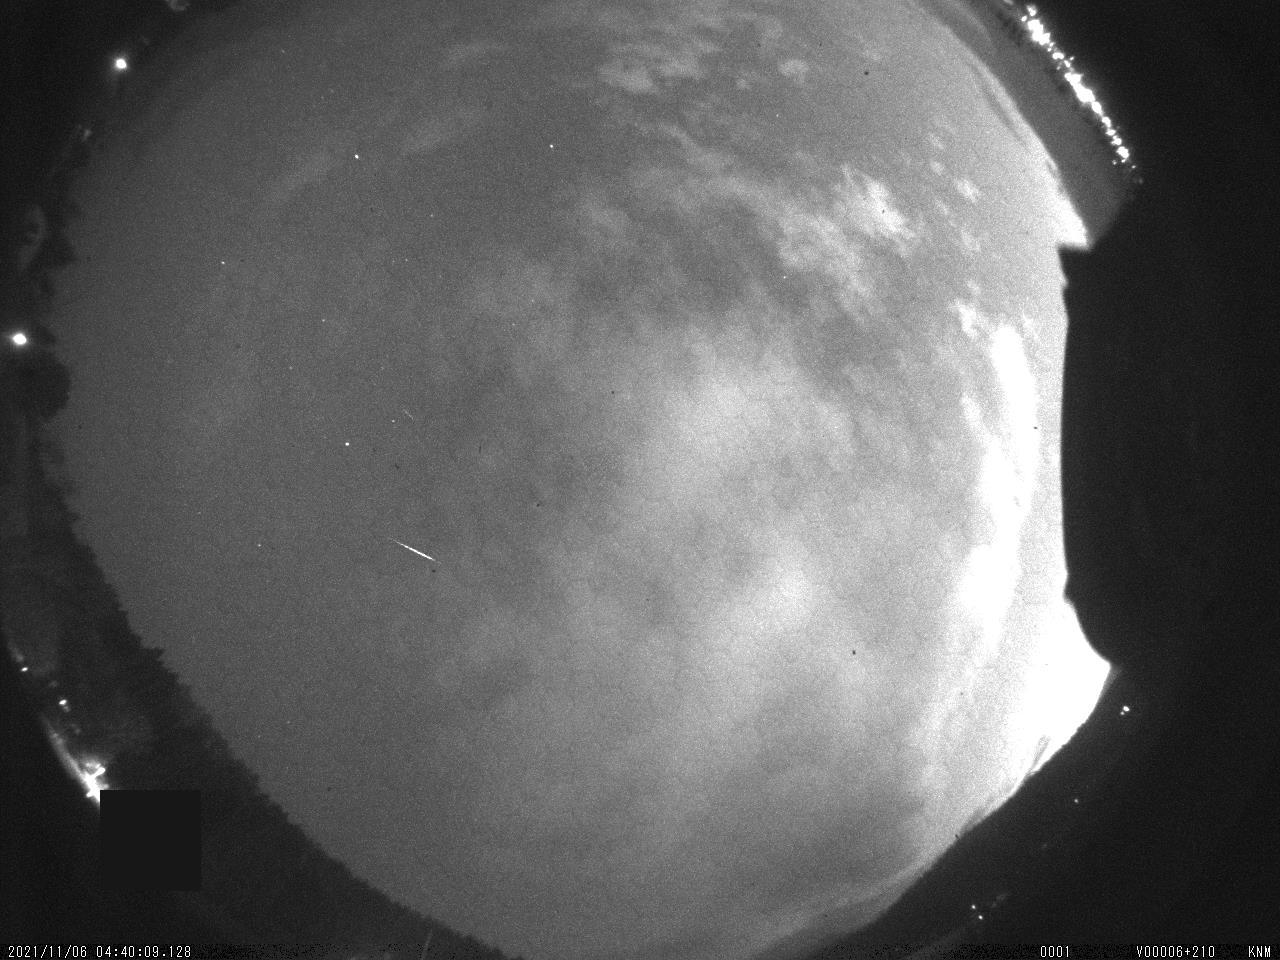meteor: (378, 521, 474, 585)
